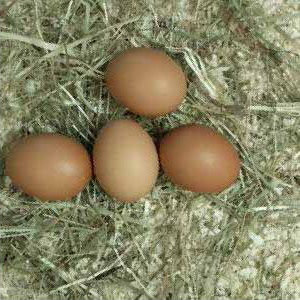egg: (6, 134, 93, 200), (105, 48, 187, 117), (94, 118, 159, 203), (160, 124, 240, 193)
